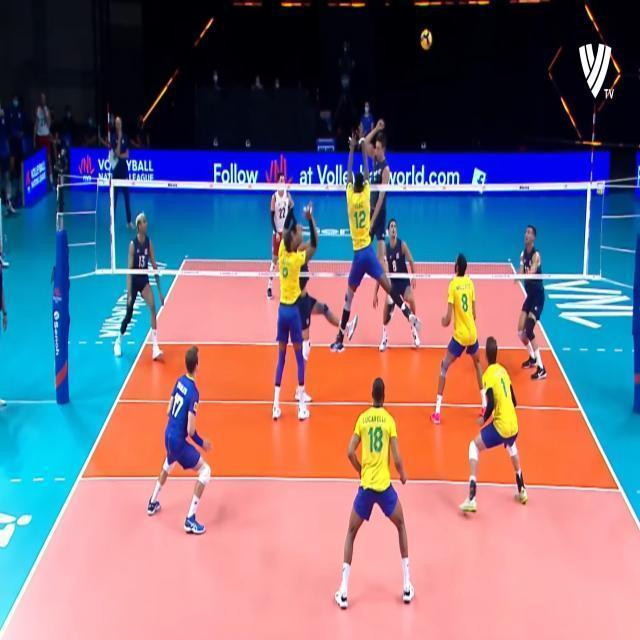volleyball: (420, 30, 432, 49)
